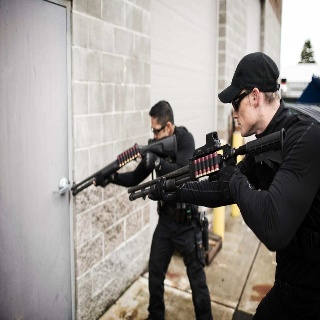shotgun: (126, 129, 286, 201), (70, 133, 178, 196)
